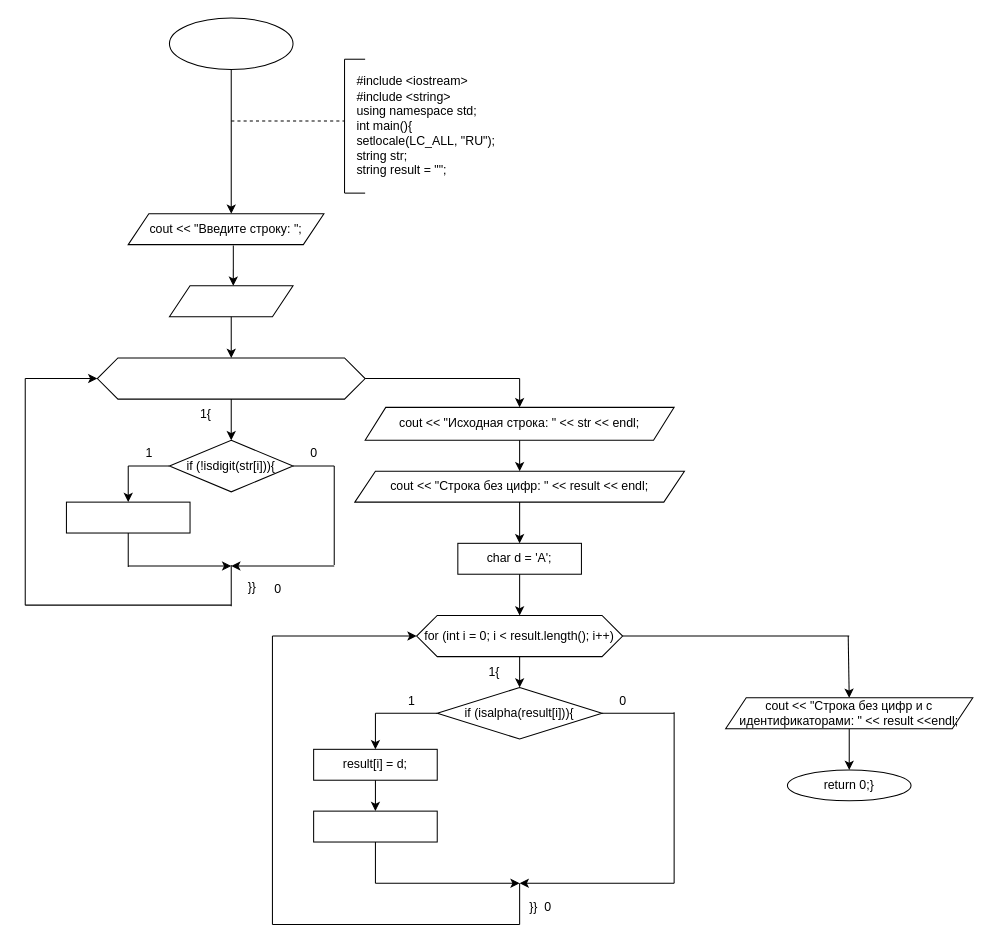
Some shapes in this 991 by 943 pixel diagram are drawn without their labels. Here are the shapes that lost their labels. From the top down, the box of each, then its label:
(168, 17, 293, 70): Начало
(168, 285, 293, 317): getline(cin, str);
(96, 357, 365, 399): for (int i=0;i<str.length();i++)
(65, 501, 190, 533): result += str[i];
(313, 810, 437, 842): d++;
